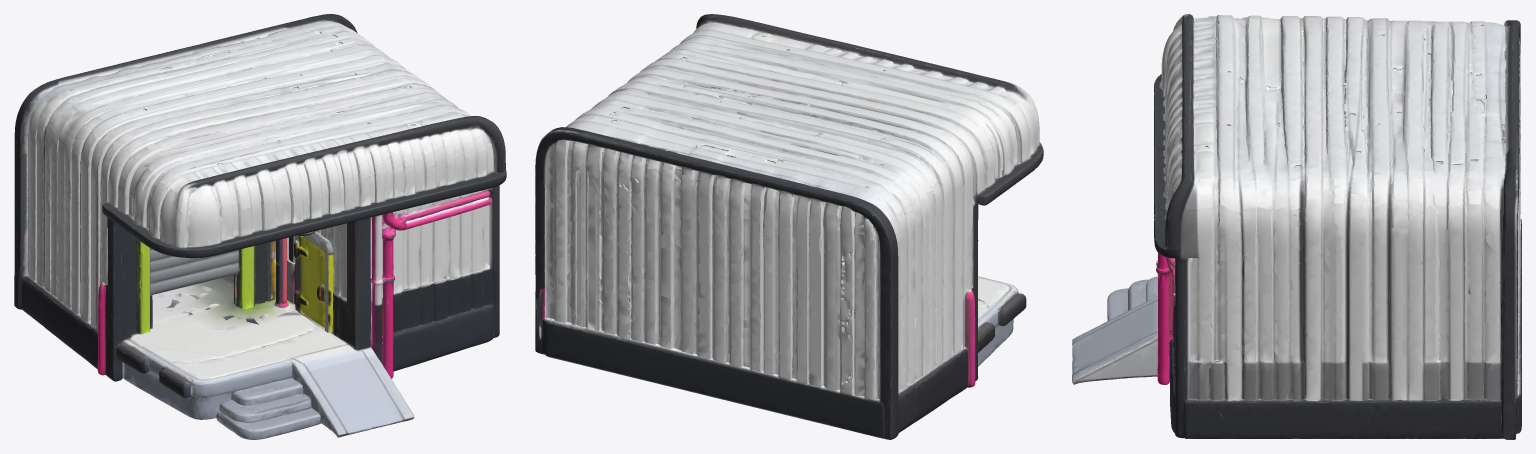
The model's file is u_bld_warehouse.glb.
The picture shows the model from 3 angles, left to right: view 1: azimuth 30°, elevation 25°; view 2: azimuth 150°, elevation 25°; view 3: azimuth 270°, elevation 25°; orthographic projection. The views are drawn at different scales.
Visible parts, largest first — view 1: geometry_0; view 2: geometry_0; view 3: geometry_0.
Boxes of the visible parts, x1=… form: geometry_0: x1=14, y1=14, x2=506, y2=439; geometry_0: x1=535, y1=14, x2=1043, y2=439; geometry_0: x1=1072, y1=14, x2=1521, y2=439.
Bounding box in the file's own units: 6 × 4.11 × 6.
1 material, 1 textured.
